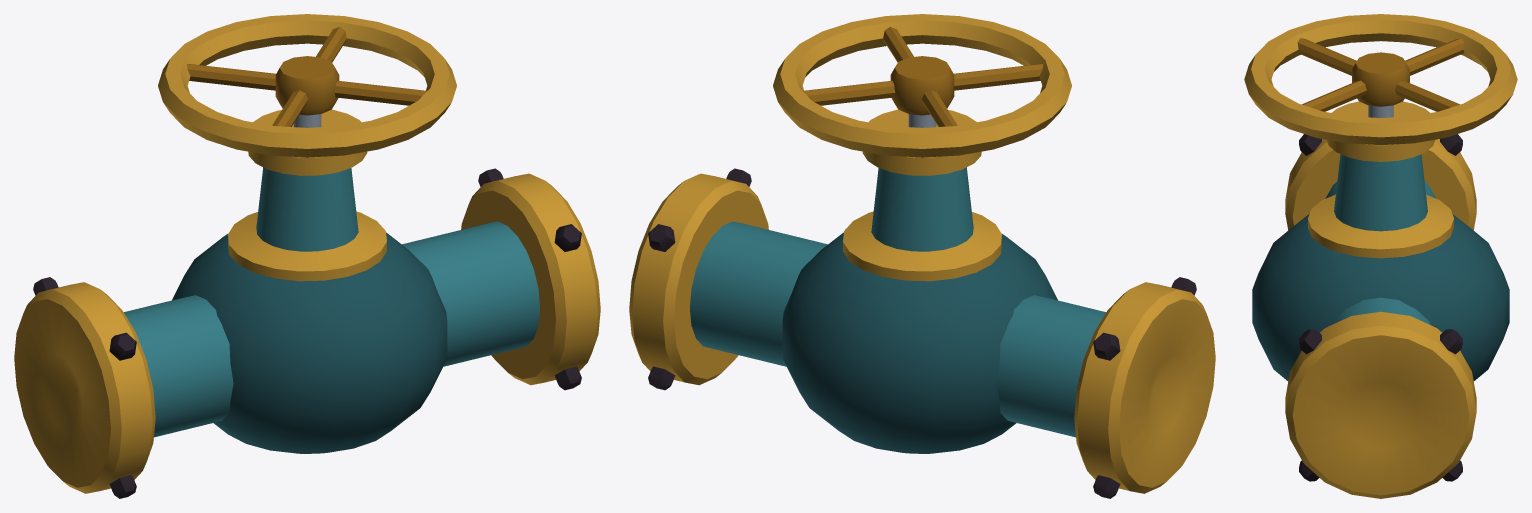
Rendered from Valve_22.glb.
3 renders of one model, left to right at view 1: azimuth 30°, elevation 25°; view 2: azimuth 150°, elevation 25°; view 3: azimuth 270°, elevation 25°, orthographic. The views are drawn at different scales.
Visible parts, largest first — view 1: Valve_22; view 2: Valve_22; view 3: Valve_22.
Boxes of the visible parts, bbox=[...] form: Valve_22: bbox=[14, 14, 600, 498]; Valve_22: bbox=[629, 14, 1215, 498]; Valve_22: bbox=[1244, 14, 1517, 498].
Size of the model in its own units: 2.85 by 2.07 by 1.51.
